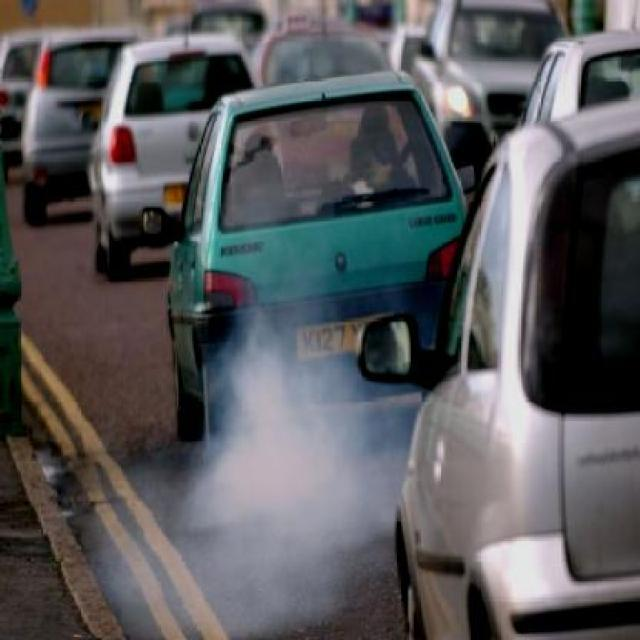Smoke: (94, 291, 432, 640)
